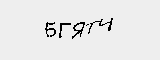Б: (43, 19, 57, 40)
Г: (57, 19, 71, 40)
Т: (83, 18, 100, 36)
Ч: (98, 15, 117, 34)
Я: (72, 20, 85, 41)
